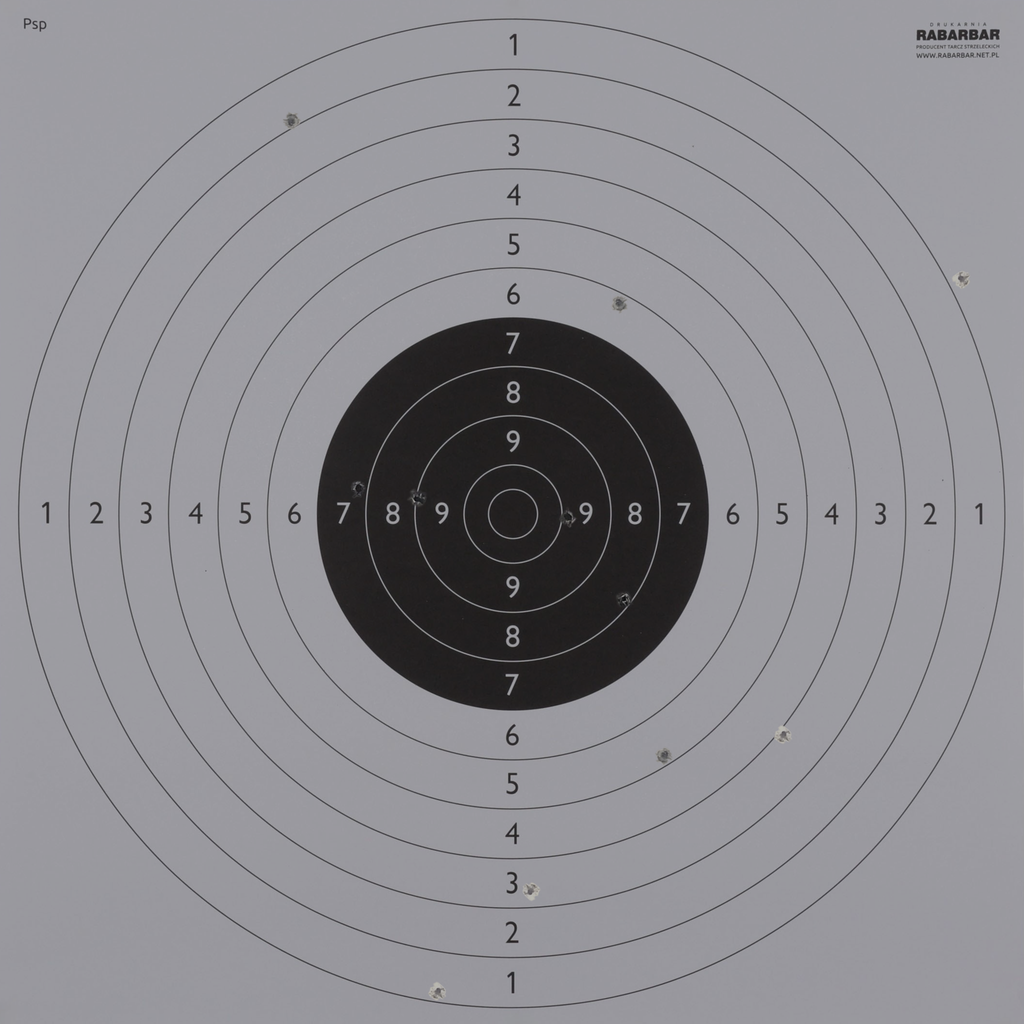0 punktow: (952, 270, 971, 288)
1 punkt: (429, 982, 447, 1001)
10 punktow: (559, 508, 577, 527)
2 punkty: (282, 112, 301, 131)
3 punkty: (521, 882, 540, 900)
4 punkty: (774, 726, 793, 744)
5 punktow: (655, 746, 674, 765)
6 punktow: (610, 294, 628, 313)
7 punktow: (349, 479, 368, 498)
8 punktow: (615, 589, 634, 608)
9 punktow: (408, 490, 426, 508)
